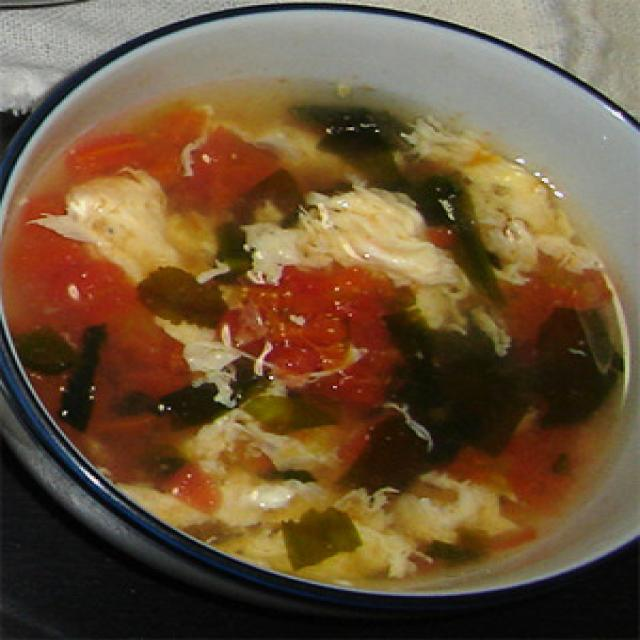汤锅炖物: (0, 0, 640, 618)
